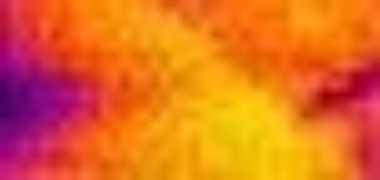Shadow: (1, 50, 100, 128)
